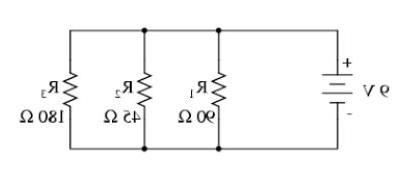Battery: (302, 50, 361, 118)
